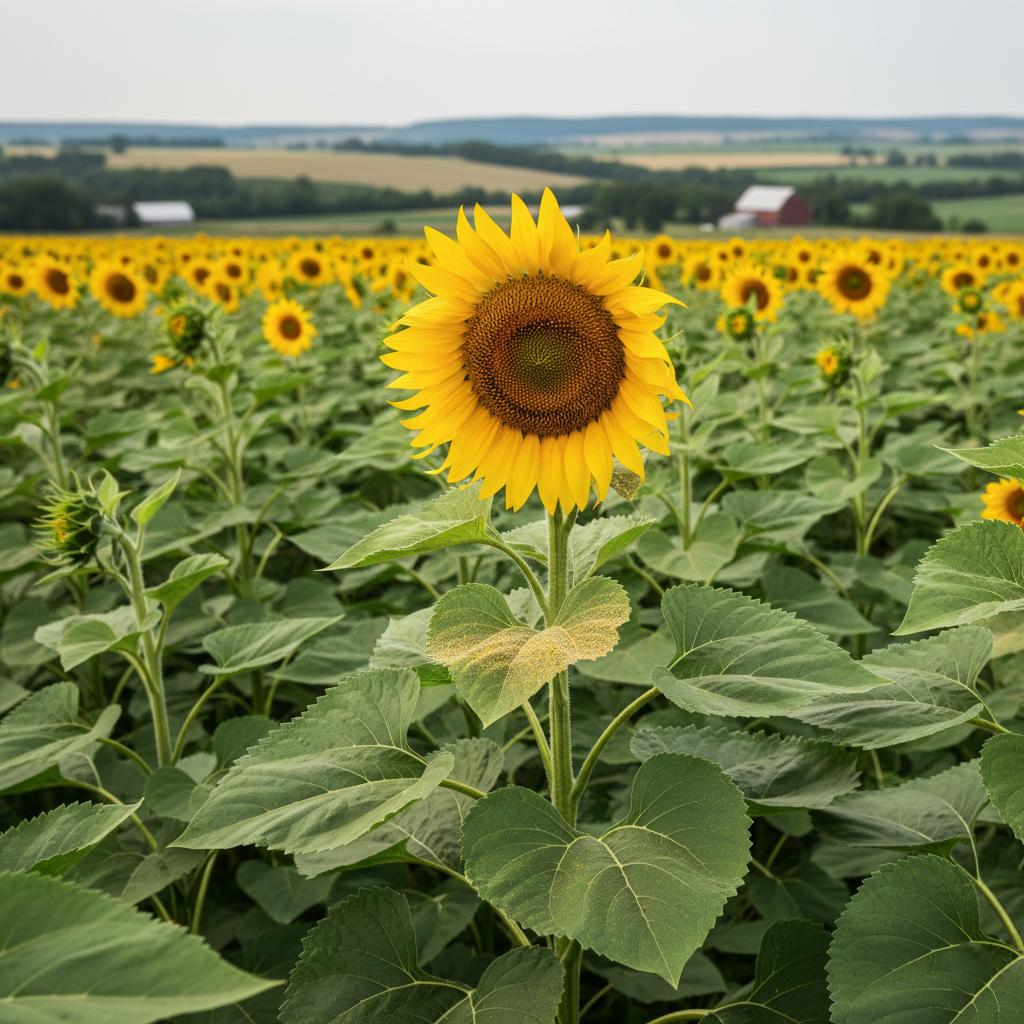sunflower: (379, 185, 692, 516)
